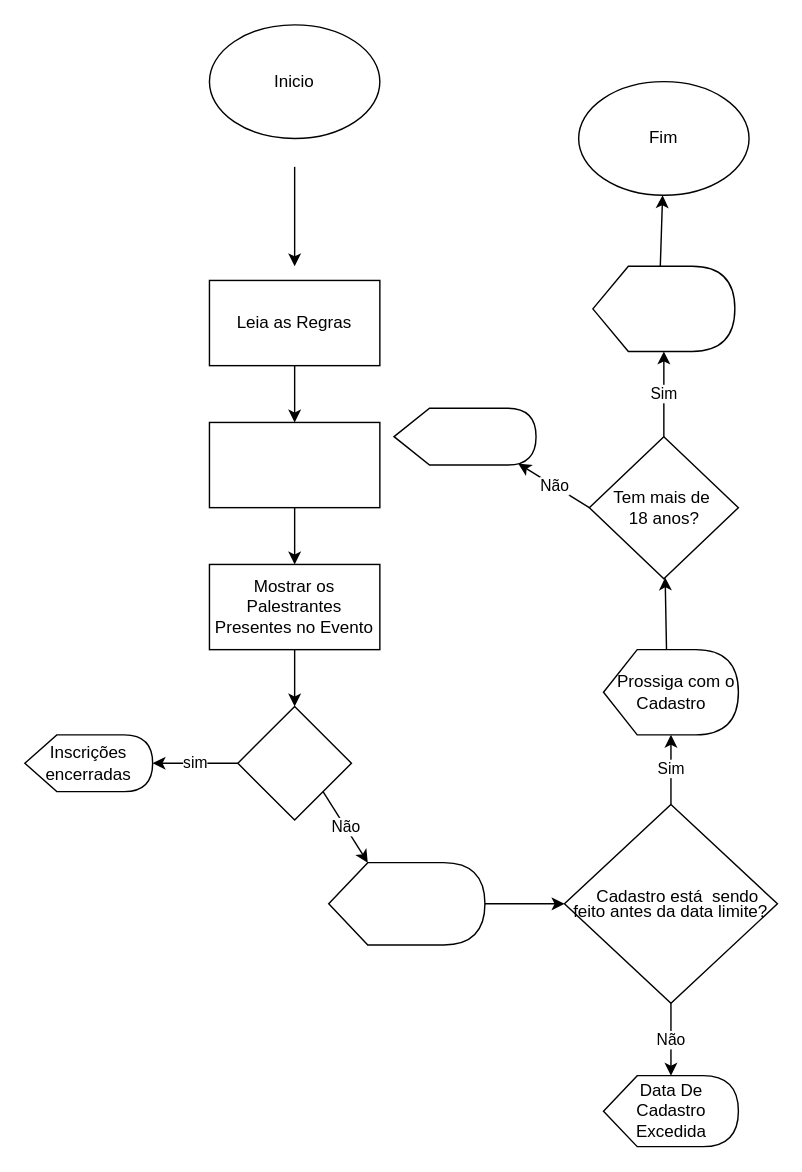
The diagram is 802 pixels wide and 1172 high, and some of its shapes have lost their labels. Here are the shapes that lost their labels. From the top down, the centre of each, then its label:
(x=663, y=308): Sua Incrição foi Realizada com Sucesso
(x=464, y=436): Você é menor de idade.
(x=294, y=464): Mostrar os Participantes Já Cadastrados
(x=293, y=762): Já tem 100 incritos?
(x=406, y=903): Prosseguir com o cadastro
